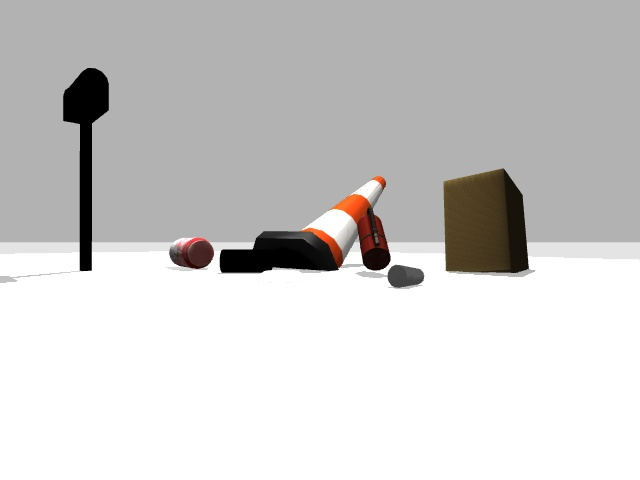boite_lettres: (63, 68, 108, 270)
bol: (258, 269, 299, 282)
bouteille_verre: (221, 249, 277, 272)
canette: (169, 237, 213, 268)
carton: (444, 169, 528, 272)
cone_chantier: (253, 176, 385, 269)
extincteur: (358, 209, 389, 269)
gobelet: (387, 265, 423, 287)
